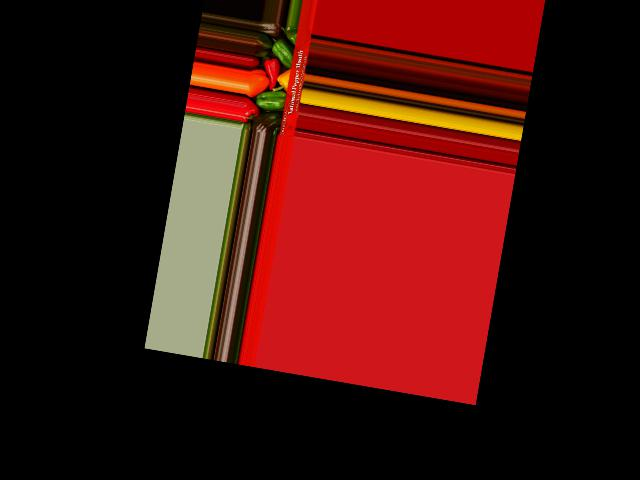bell_pepper: (251, 109, 283, 135)
